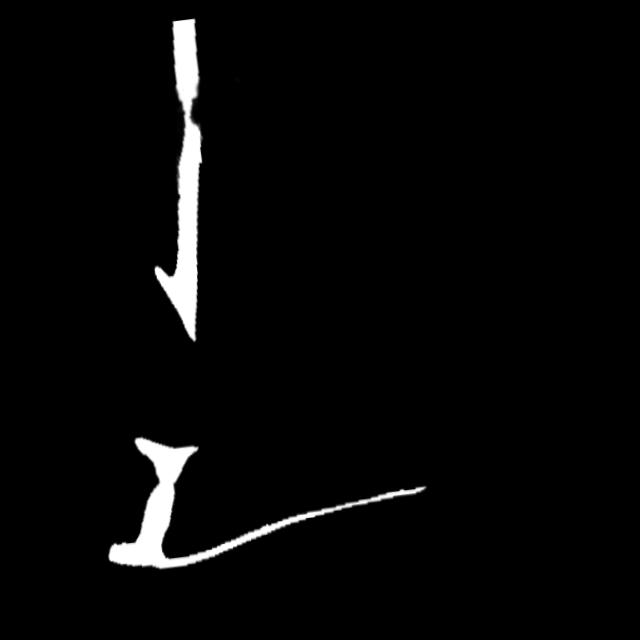sl: (171, 85, 209, 148)
